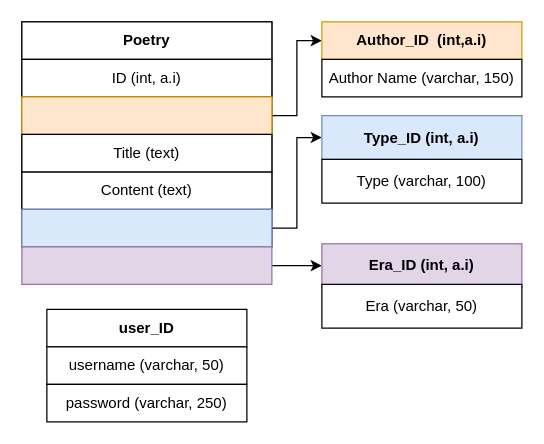
The diagram is 544 pixels wide and 444 high, and some of its shapes have lost their labels. Here are the shapes that lost their labels. From the top down, the centre of each, then its label:
At pixel 146 115: "Author_ID".
At pixel 146 227: "Type_ID".
At pixel 146 265: "Era_ID".
